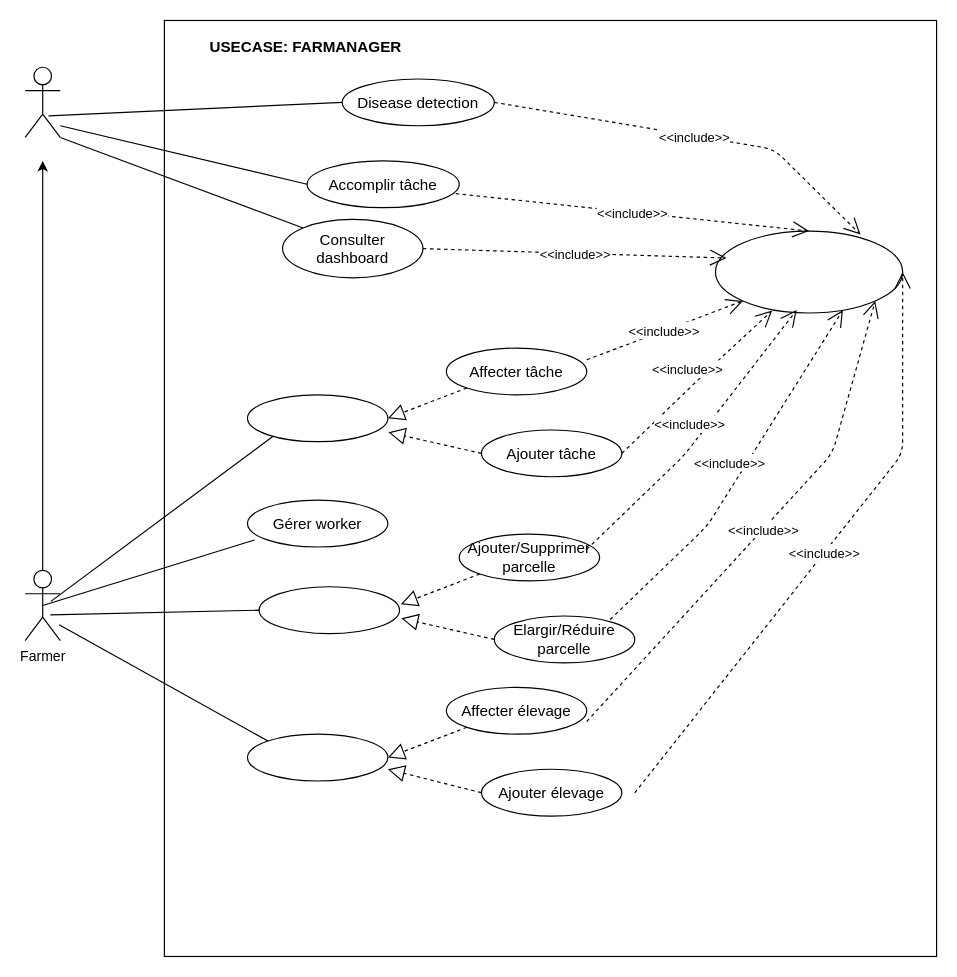
The diagram is 957 pixels wide and 977 high, and some of its shapes have lost their labels. Each missing label, with the box of its shape:
Gérer parcelle: (258, 586, 400, 634)
Gérer tâche: (246, 394, 388, 442)
Gérer élevage: (246, 733, 388, 781)
S'authentifier: (714, 230, 903, 313)
Worker: (24, 66, 60, 137)
